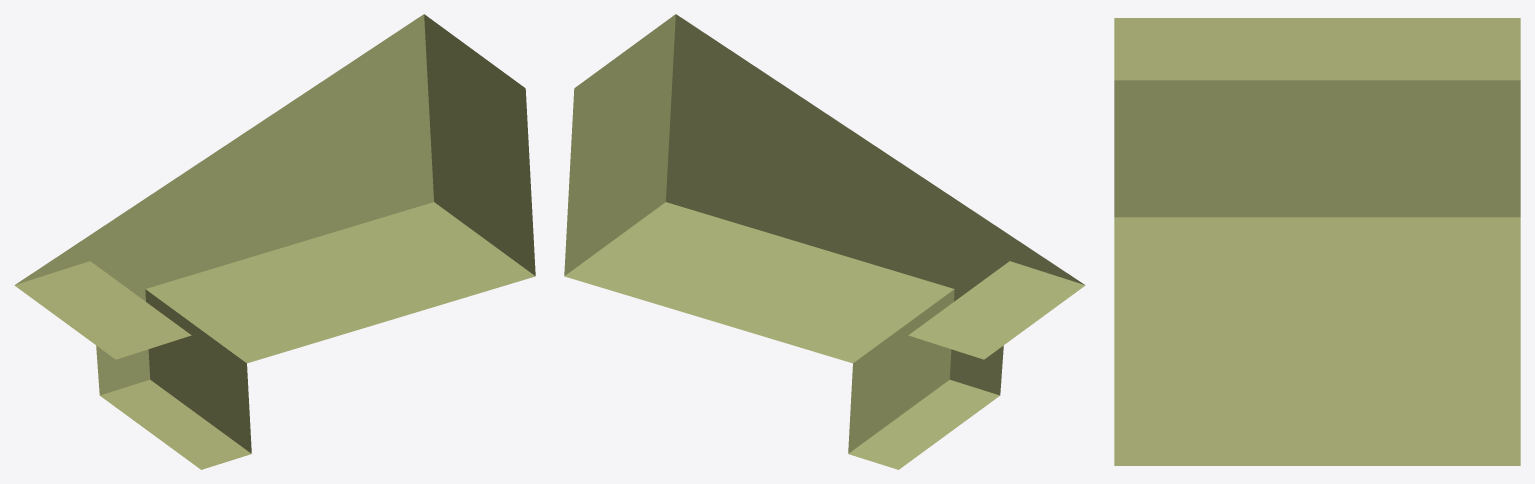
The picture shows the model from 3 angles, left to right: view 1: azimuth 30°, elevation 25°; view 2: azimuth 150°, elevation 25°; view 3: azimuth 270°, elevation 25°; orthographic projection. The views are drawn at different scales.
Visible parts, largest first — view 1: 0_3_2_3_1_1_1_2_2; view 2: 0_3_2_3_1_1_1_2_2; view 3: 0_3_2_3_1_1_1_2_2.
Boxes of the visible parts, x1,y1,x2,y2 form: 0_3_2_3_1_1_1_2_2: (14,14,535,469); 0_3_2_3_1_1_1_2_2: (564,14,1085,469); 0_3_2_3_1_1_1_2_2: (1114,18,1520,465).
Bounding box in the file's own units: 14.31 × 9.85 × 6.
